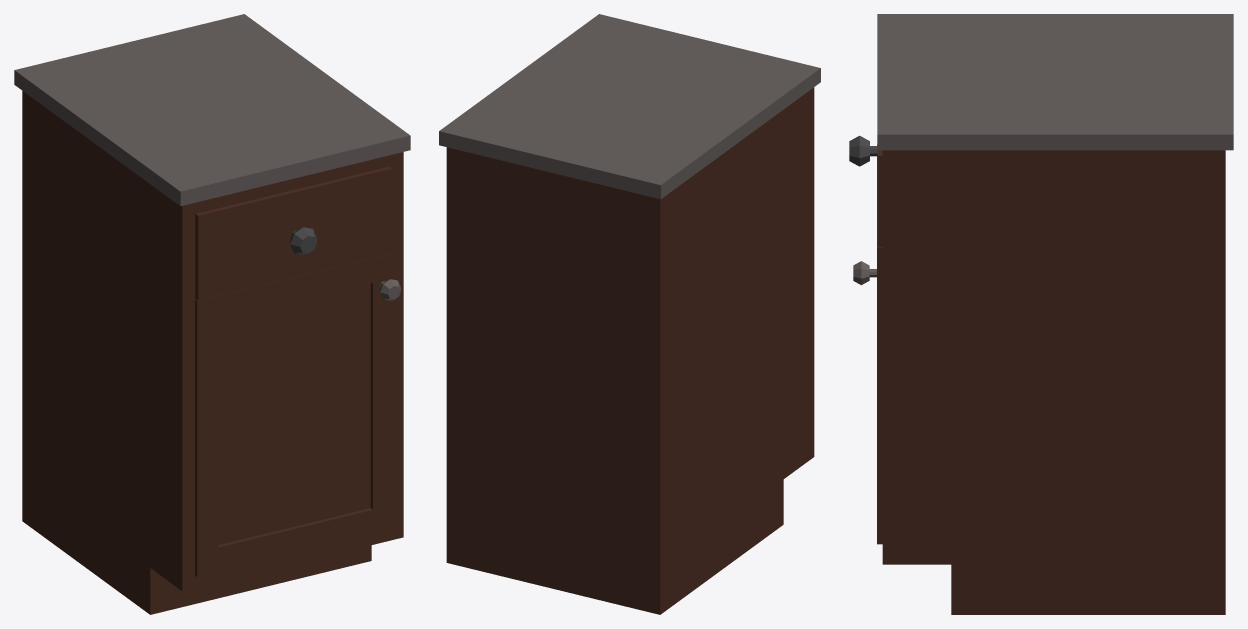
Rendered from SingleDoorBaseCabinetWDrawer1.glb.
The picture shows the model from 3 angles, left to right: view 1: azimuth 30°, elevation 25°; view 2: azimuth 150°, elevation 25°; view 3: azimuth 270°, elevation 25°; orthographic projection. The views are drawn at different scales.
Visible parts, largest first — view 1: SingleDoorbaseCabinetWDrawer1, Door1SingleDoorbaseCabinetWDrawer1, Drawer1SingleDoorbaseCabinetWDrawer1; view 2: SingleDoorbaseCabinetWDrawer1; view 3: SingleDoorbaseCabinetWDrawer1, Door1SingleDoorbaseCabinetWDrawer1, Drawer1SingleDoorbaseCabinetWDrawer1.
Boxes of the visible parts, x1,y1,x2,y2 form: SingleDoorbaseCabinetWDrawer1: (14, 14, 410, 614); Door1SingleDoorbaseCabinetWDrawer1: (195, 252, 400, 577); Drawer1SingleDoorbaseCabinetWDrawer1: (195, 166, 392, 300); SingleDoorbaseCabinetWDrawer1: (439, 14, 820, 614); SingleDoorbaseCabinetWDrawer1: (877, 14, 1233, 614); Door1SingleDoorbaseCabinetWDrawer1: (853, 145, 882, 544); Drawer1SingleDoorbaseCabinetWDrawer1: (849, 135, 882, 246).
Size of the model in its own units: 0.4863 by 0.9081 by 0.6558.
